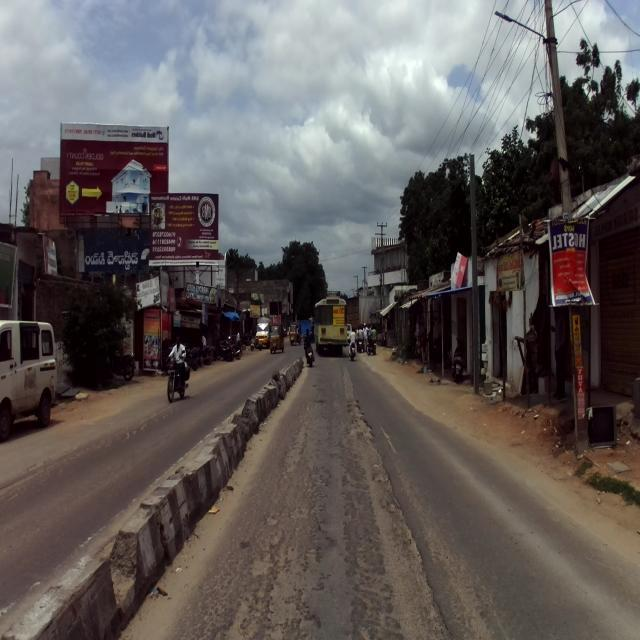Pothole: (189, 568, 453, 640), (292, 387, 373, 522), (235, 527, 401, 568)
